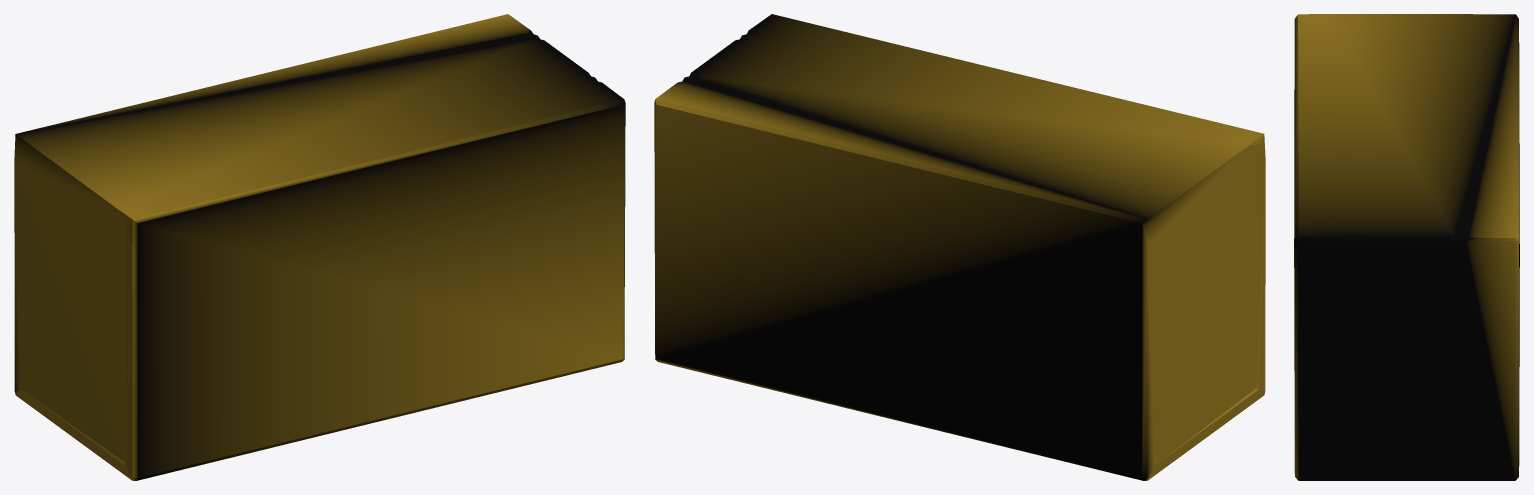
The model's file is Container.glb.
The picture shows the model from 3 angles, left to right: view 1: azimuth 30°, elevation 25°; view 2: azimuth 150°, elevation 25°; view 3: azimuth 270°, elevation 25°; orthographic projection. The views are drawn at different scales.
Visible parts, largest first — view 1: Root; view 2: Root; view 3: Root.
Part boxes in pixels (x1,y1,x2,y2): Root: (14,14,625,480); Root: (654,14,1265,480); Root: (1294,14,1519,480).
Size of the model in its own units: 3.49 by 1.77 by 1.48.
